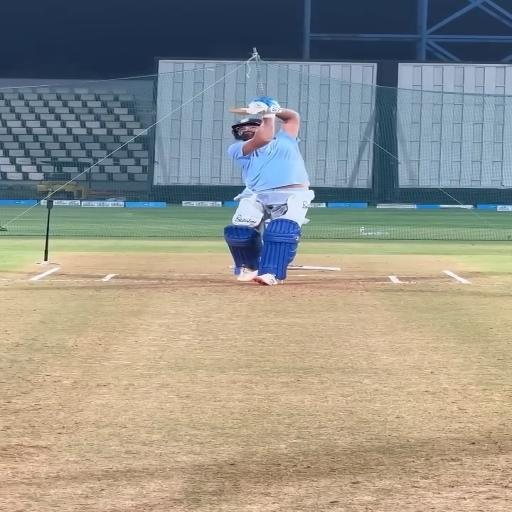Cricket bat: (230, 106, 262, 114)
